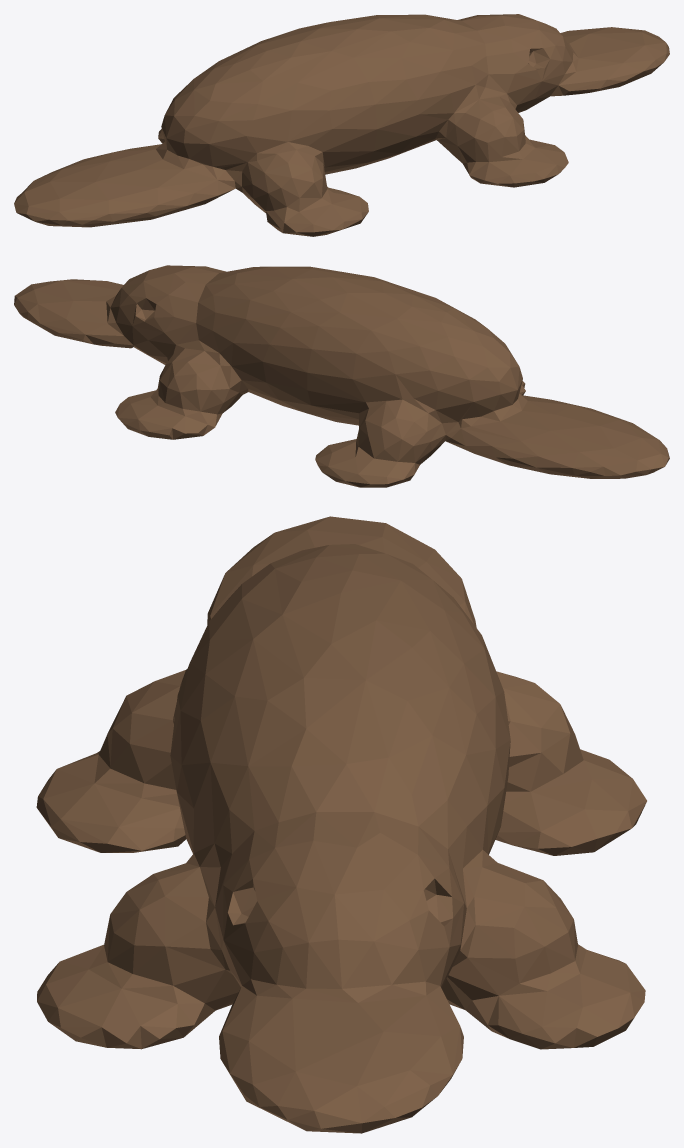
File: NEW_RECOVERY_053_LOD2.fbx
3 renders of one model, top to bottom at view 1: azimuth 30°, elevation 25°; view 2: azimuth 150°, elevation 25°; view 3: azimuth 270°, elevation 25°, orthographic. The views are drawn at different scales.
Parts seen in each view (by area): view 1: Platypus_whole_continuous_skin; view 2: Platypus_whole_continuous_skin; view 3: Platypus_whole_continuous_skin.
Part boxes in pixels (x1,y1,x2,y2): Platypus_whole_continuous_skin: (14,14,669,236); Platypus_whole_continuous_skin: (14,265,669,487); Platypus_whole_continuous_skin: (36,516,646,1133).
Size of the model in its own units: 428 by 175 by 86.71.
